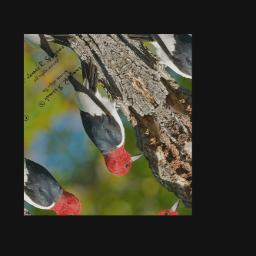Woodpecker: (45, 52, 163, 182)
